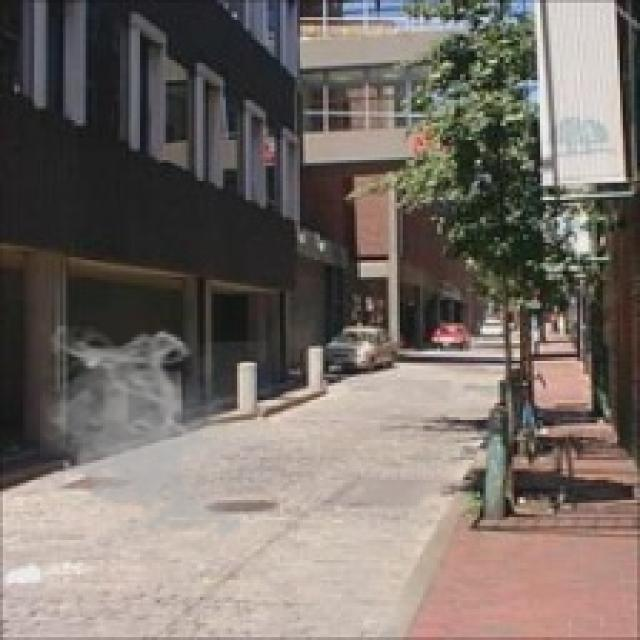smoke: (43, 326, 271, 546)
